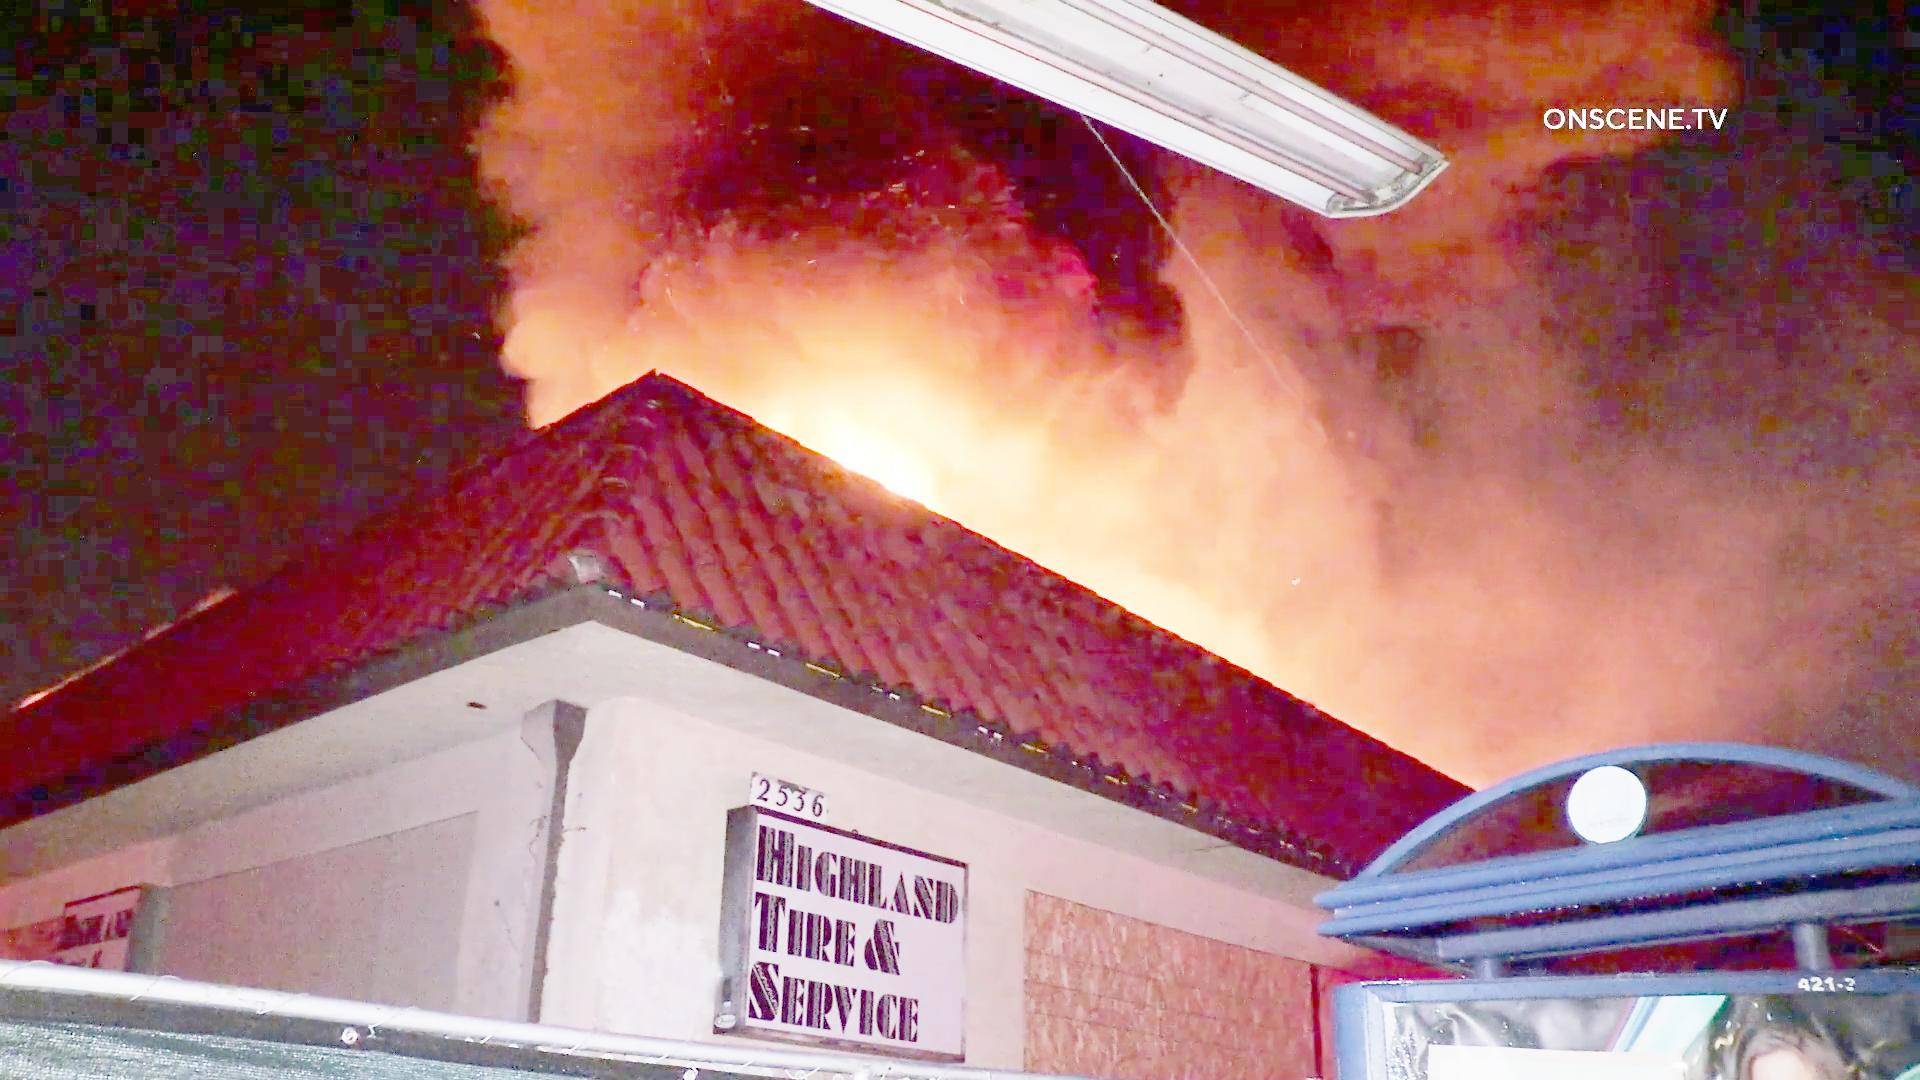fire: (798, 388, 947, 491)
smoke: (1063, 286, 1871, 592), (546, 41, 752, 347)
